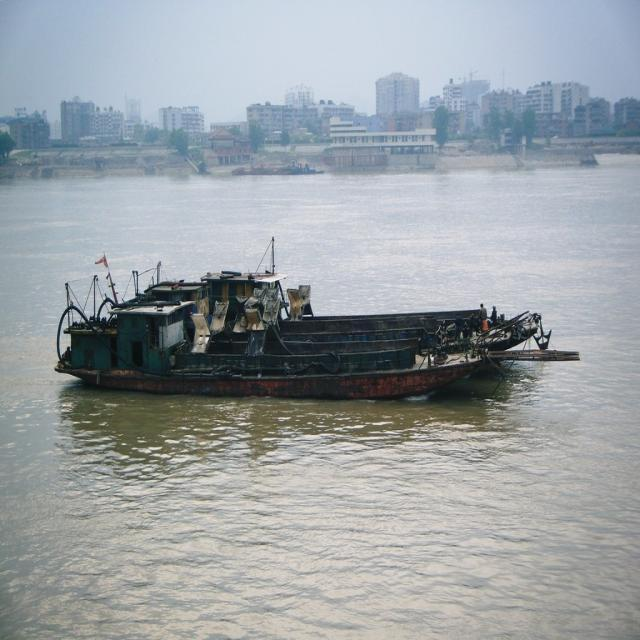boat: (60, 293, 508, 425)
